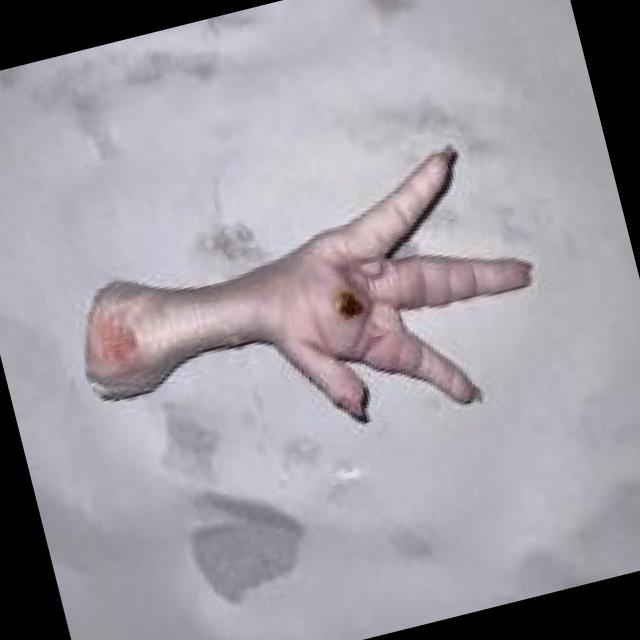Bumble foot: (285, 260, 390, 356)
